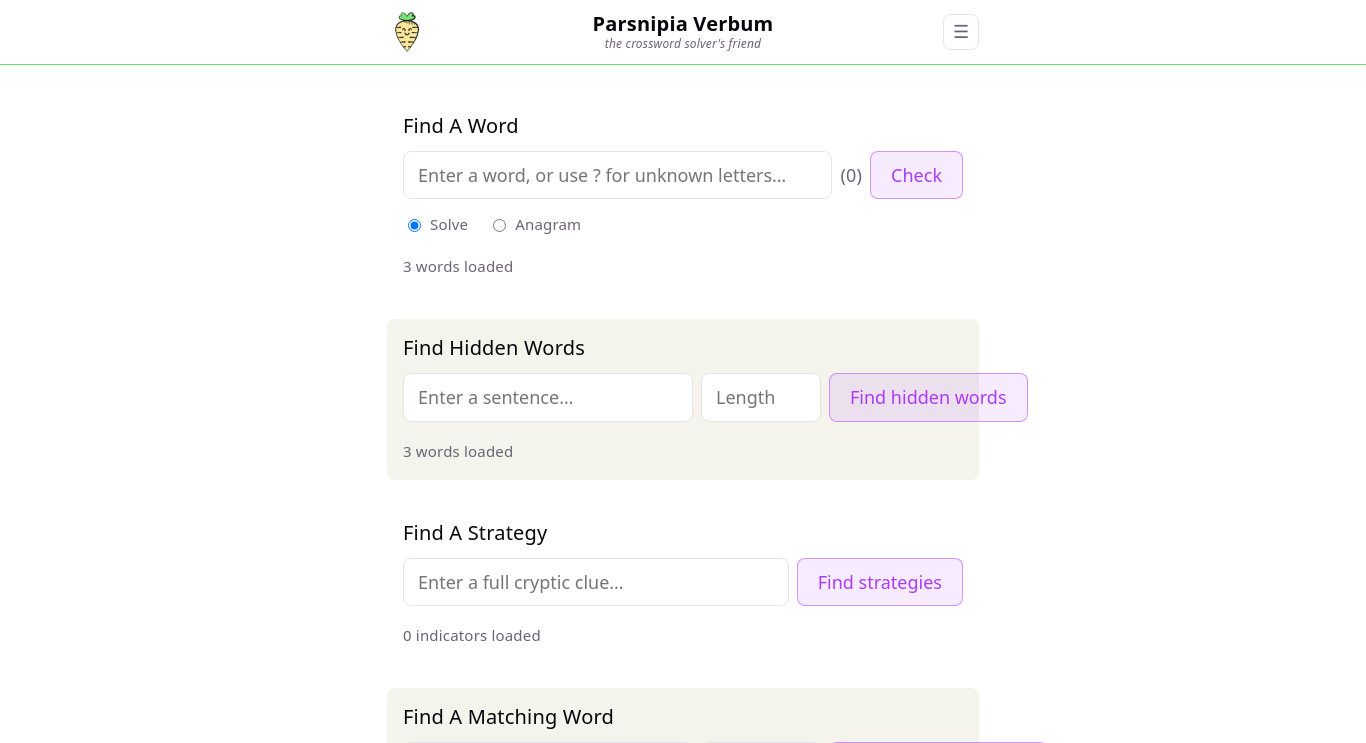
Scenario: App › renders the heading and lets a user look up a word end-to-end
The image size is (1366, 743).
Expected: the heading "Parsnipia Verbum" is shown, [593,12,773,36]
Expected: the heading "Find A Word" is shown, [403,112,519,139]
Type "crossword" into the field named "word to look up" at (618, 175), box [403,151,832,199]
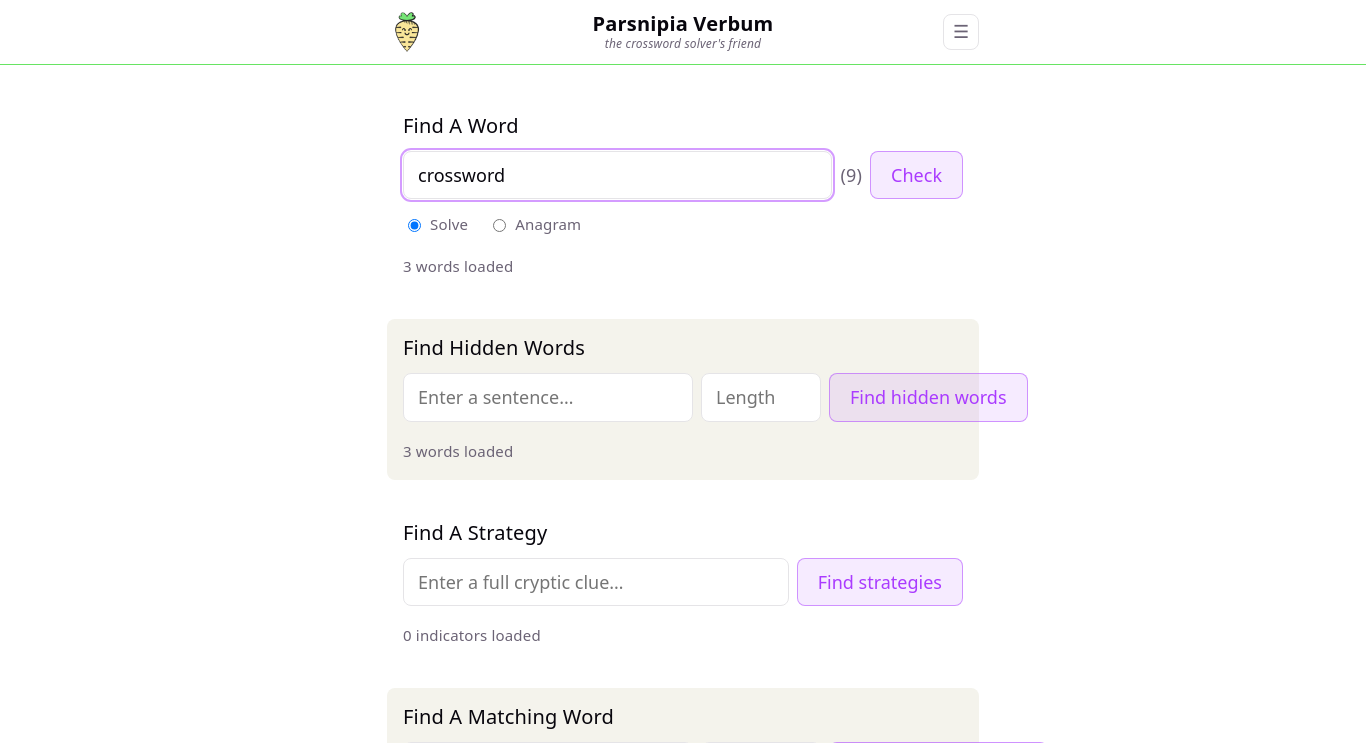
Click the button "Check" at (917, 175), box [870,151,963,199]
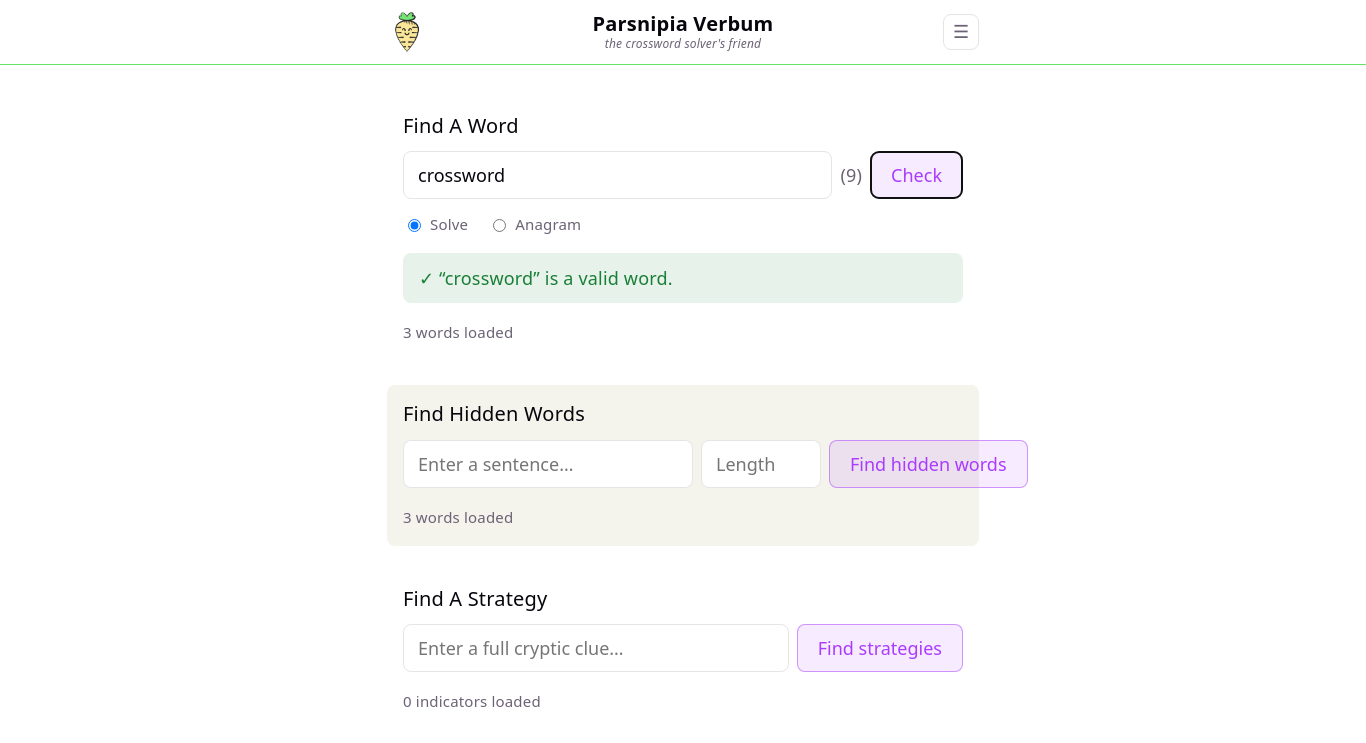
Expected: the text "✓ “crossword” is a valid word." is shown, [403,253,963,303]
